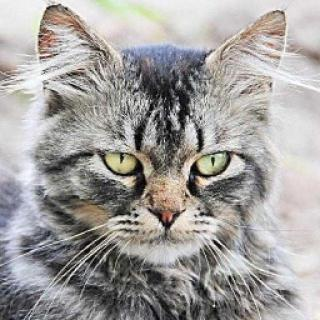cat: (31, 6, 287, 267)
nose: (145, 177, 188, 226)
